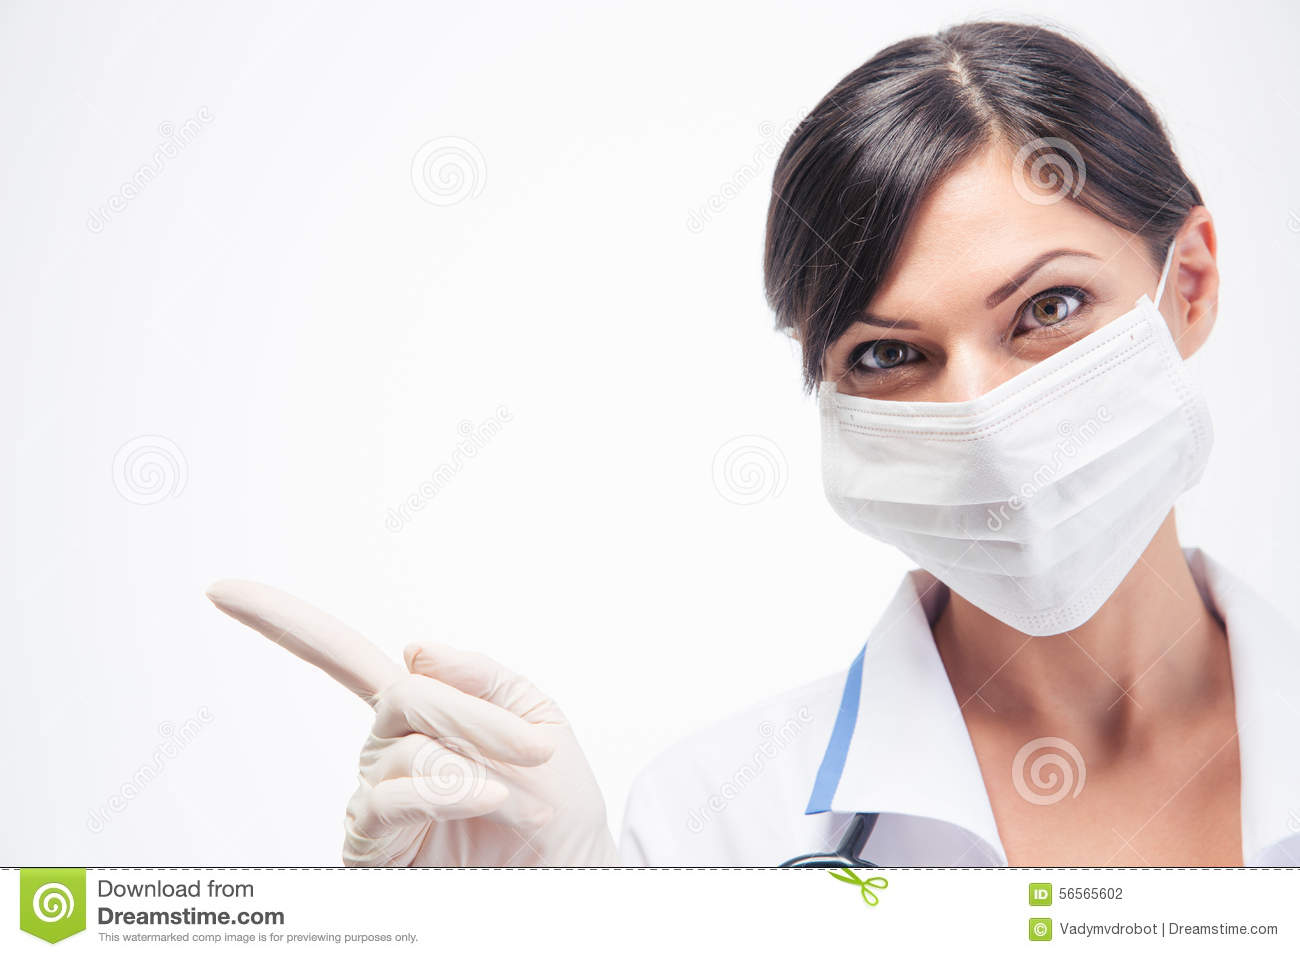mask: (806, 331, 1239, 606)
